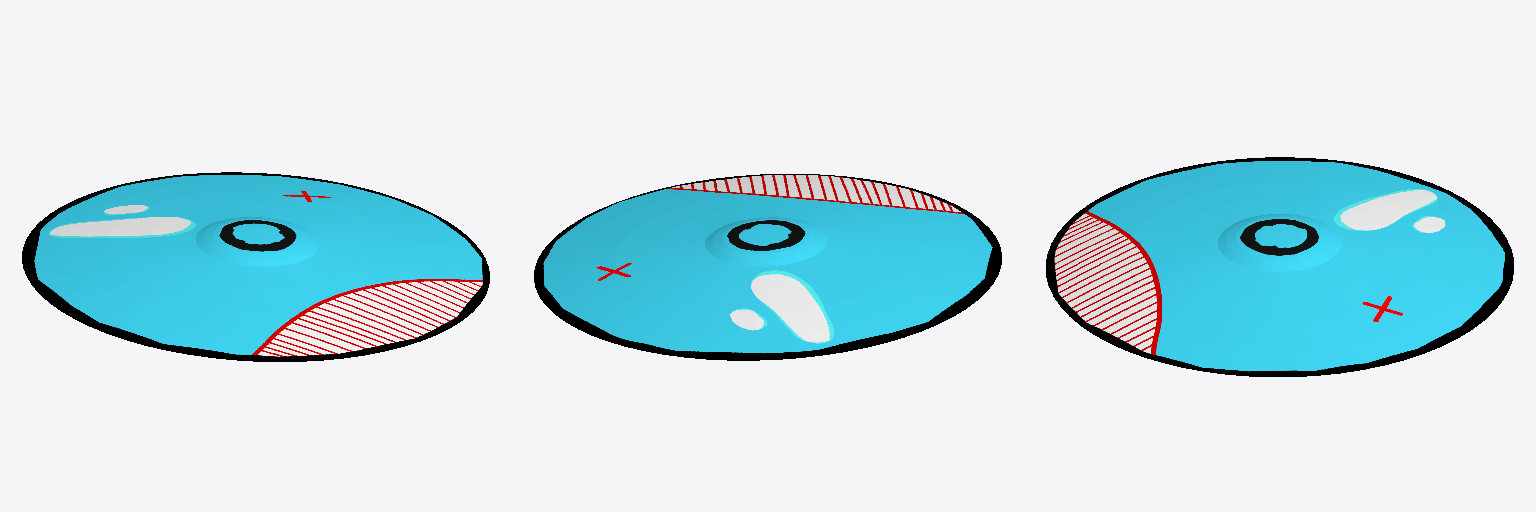
The picture shows the model from 3 angles: view 1: azimuth 30°, elevation 25°; view 2: azimuth 150°, elevation 25°; view 3: azimuth 270°, elevation 25°; orthographic projection.
Visible parts, largest first — view 1: drumsetV4_RideSymbal_Cylinder.026; view 2: drumsetV4_RideSymbal_Cylinder.026; view 3: drumsetV4_RideSymbal_Cylinder.026.
Part boxes in pixels (left/top/right/bottom): drumsetV4_RideSymbal_Cylinder.026: left=22, top=172, right=489, bottom=361; drumsetV4_RideSymbal_Cylinder.026: left=534, top=174, right=1001, bottom=360; drumsetV4_RideSymbal_Cylinder.026: left=1046, top=157, right=1513, bottom=376.
Size of the model in its own units: 1.63 by 0.1726 by 1.63.
1 materials, 1 textured.